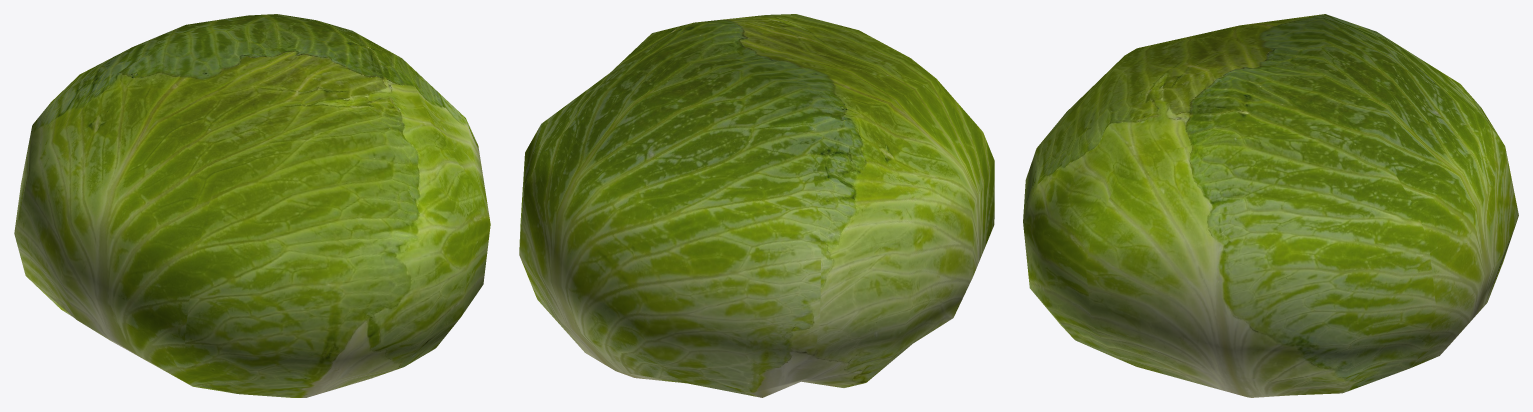
The model's file is cabbage.fbx.
The picture shows the model from 3 angles, left to right: view 1: azimuth 30°, elevation 25°; view 2: azimuth 150°, elevation 25°; view 3: azimuth 270°, elevation 25°; orthographic projection.
Visible parts, largest first — view 1: Cabbage1; view 2: Cabbage1; view 3: Cabbage1.
Boxes of the visible parts, x1,y1,x2,y2 form: Cabbage1: [14, 14, 490, 397]; Cabbage1: [519, 14, 994, 397]; Cabbage1: [1023, 14, 1518, 397].
Size of the model in its own units: 53.23 by 38.55 by 56.37.
